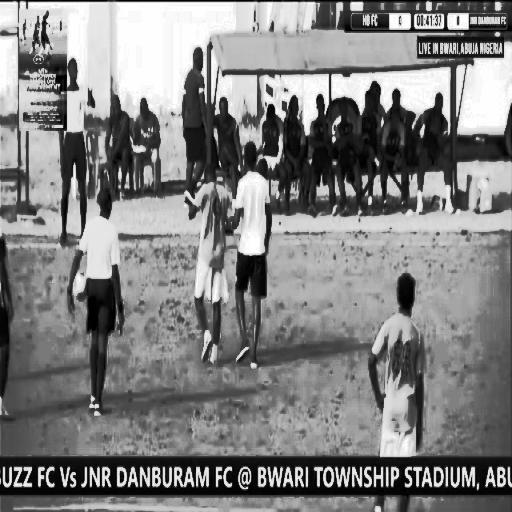ball: (70, 269, 88, 303)
distract: (234, 143, 268, 371)
referee: (84, 199, 118, 414), (64, 64, 86, 238)
team1: (380, 270, 419, 455), (196, 176, 223, 370)
